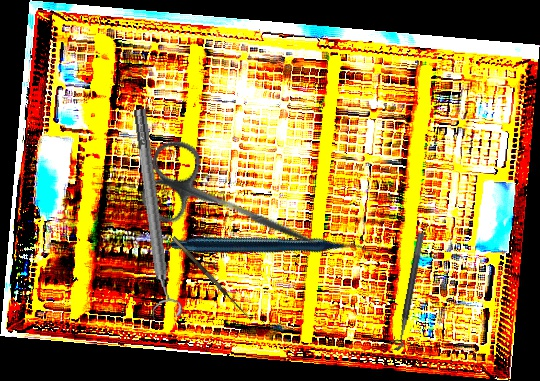Fixation Ring: (123, 107, 185, 320), (384, 230, 426, 352)
Handpiece: (168, 152, 373, 347)
Hook Surgical: (171, 231, 257, 323)
Iris Scissors: (132, 133, 334, 280)
